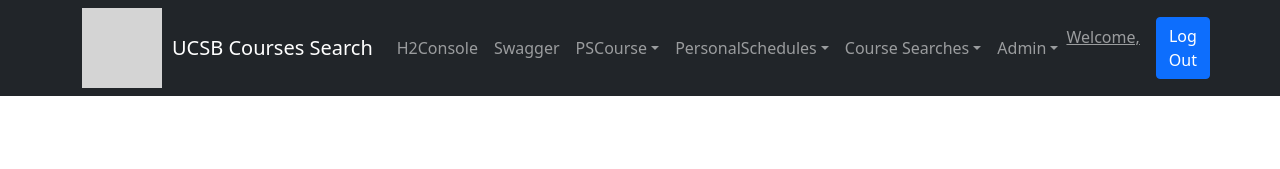
AppNavbar tests › renders the Courses menu correctly
Expected: the element with test id "appnavbar-courses-dropdown" is shown, [576,37,647,59]
Click the button "PSCourse".
click(617, 48)  # box [568,28,667,68]
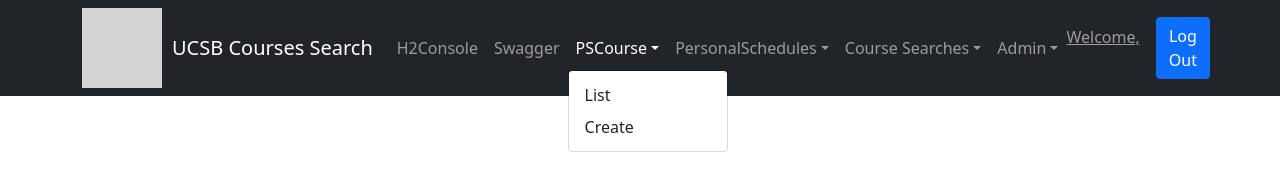
Expected: the link with test id "appnavbar-courses-list" is shown, [585,84,611,106]
Expected: the link with test id "appnavbar-courses-create" is shown, [585,116,634,138]
